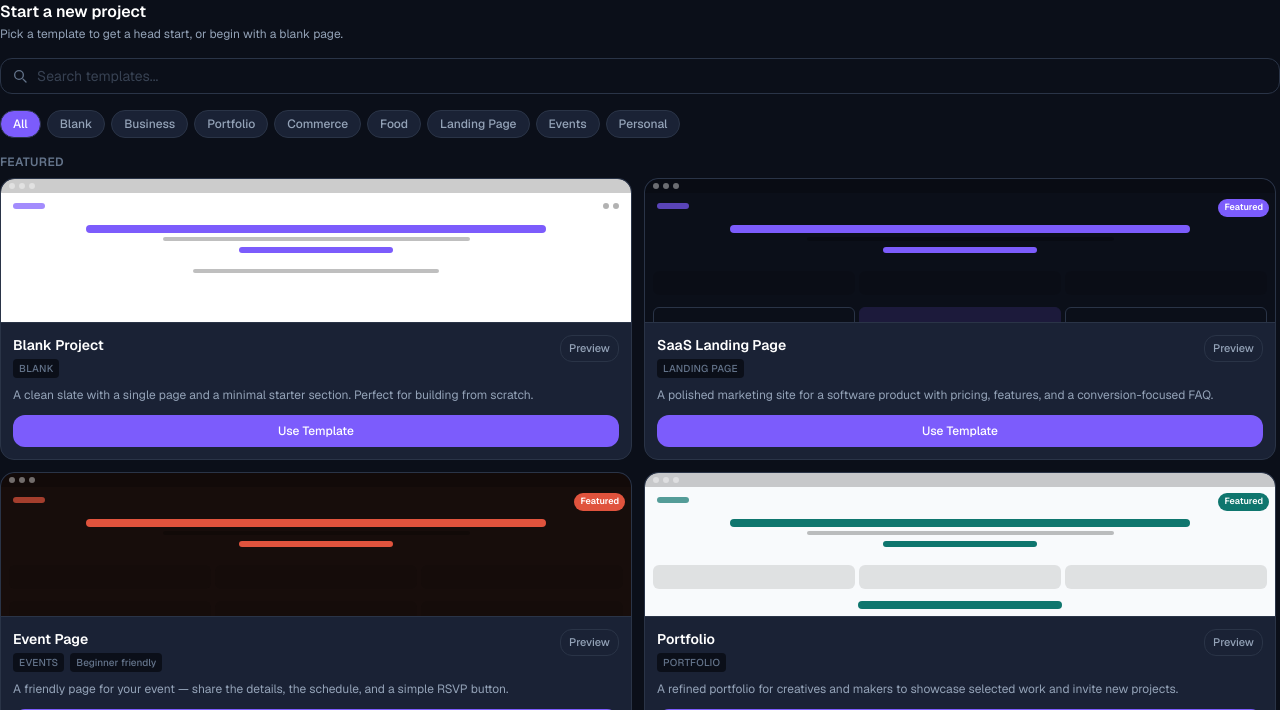
it: TemplateGallery › shows a no-results state
Type "definitely-not-a-template" into the field labelled "Search templates". click: (640, 76)
box: [0,58,1279,94]
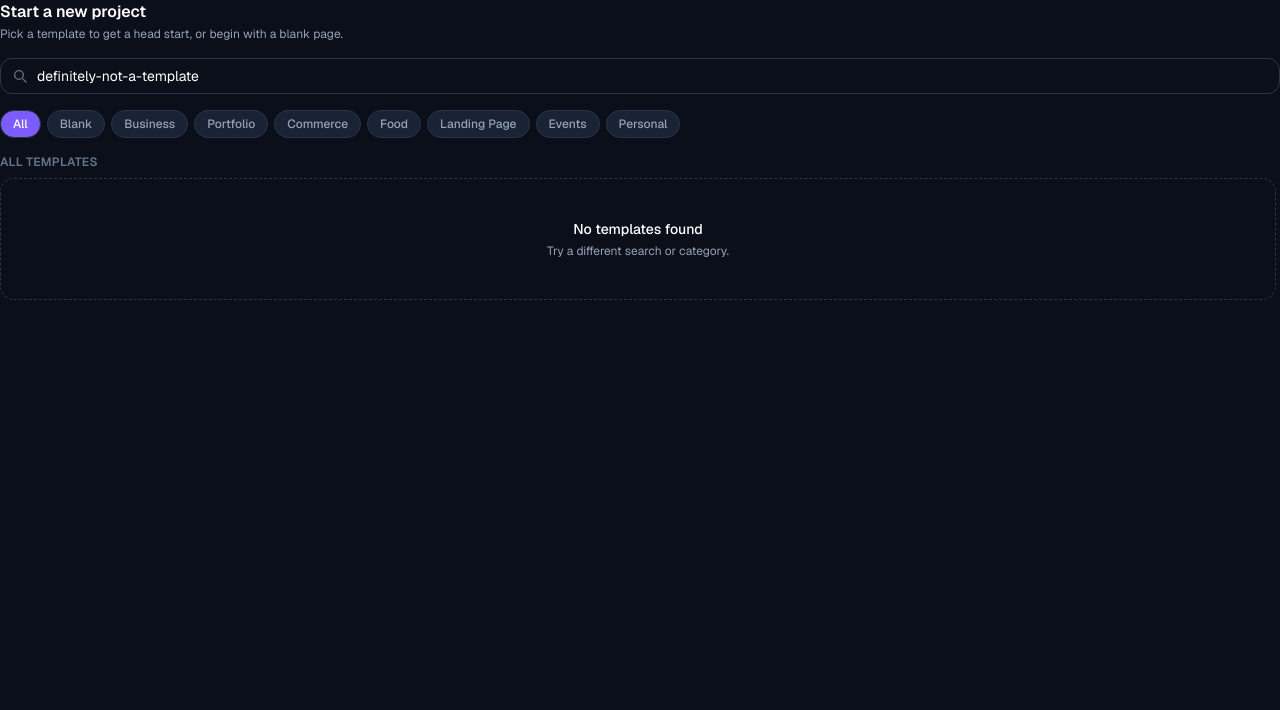
Expected: the text "No templates found" is shown, [573,220,703,238]
